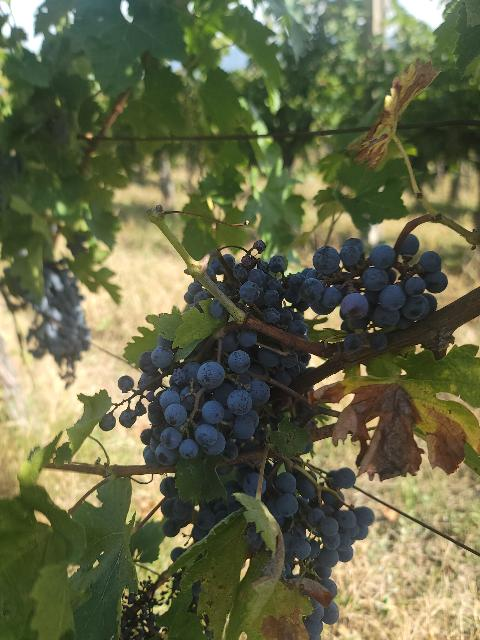grapes: (119, 330, 330, 464), (270, 465, 374, 626), (285, 234, 448, 332)
